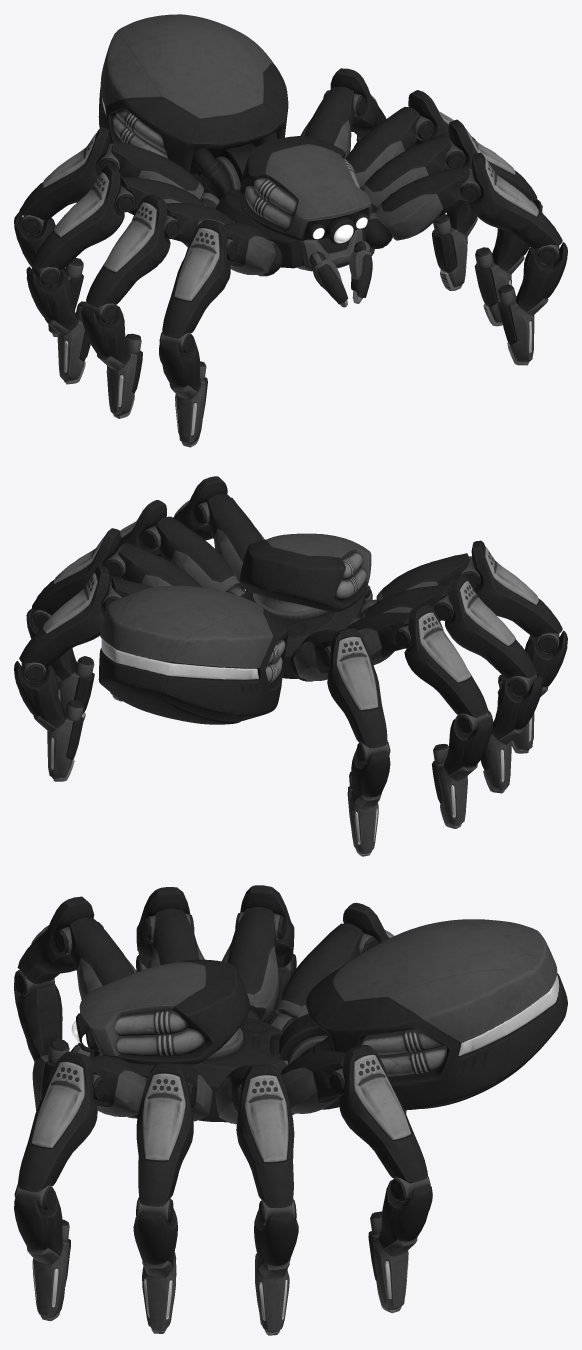
The model's file is spider.glb.
3 views of the same model, one above another, from view 1: azimuth 30°, elevation 25°; view 2: azimuth 150°, elevation 25°; view 3: azimuth 270°, elevation 25° (orthographic). The views are drawn at different scales.
Parts seen in each view (by area): view 1: Spider Bot; view 2: Spider Bot; view 3: Spider Bot.
Part boxes in pixels (x1=…): Spider Bot: x1=14, y1=14, x2=567, y2=447; Spider Bot: x1=14, y1=476, x2=567, y2=856; Spider Bot: x1=14, y1=885, x2=567, y2=1335.
Size of the model in its own units: 4.12 by 2.07 by 3.62.
4 materials, 4 textured.
